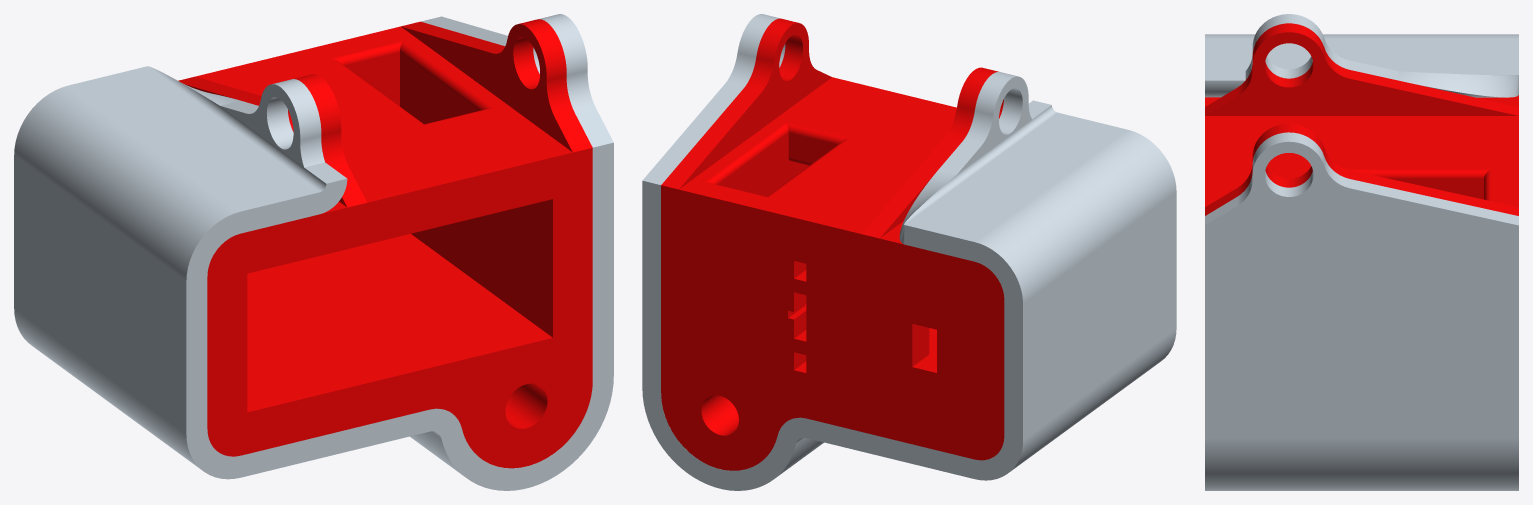
The model's file is Hub Left.dae.
The picture shows the model from 3 angles, left to right: view 1: azimuth 30°, elevation 25°; view 2: azimuth 150°, elevation 25°; view 3: azimuth 270°, elevation 25°; orthographic projection. The views are drawn at different scales.
Visible parts, largest first — view 1: 621a890f4813923cddf7575d (×2); view 2: 621a890f4813923cddf7575d (×2); view 3: 621a890f4813923cddf7575d (×2).
Part boxes in pixels (left/top/right/bottom): 621a890f4813923cddf7575d (×2): left=14, top=14, right=613, bottom=490; 621a890f4813923cddf7575d (×2): left=642, top=14, right=1176, bottom=490; 621a890f4813923cddf7575d (×2): left=1205, top=14, right=1518, bottom=490.
Bounding box in the file's own units: 0.0645 × 0.045 × 0.06.
